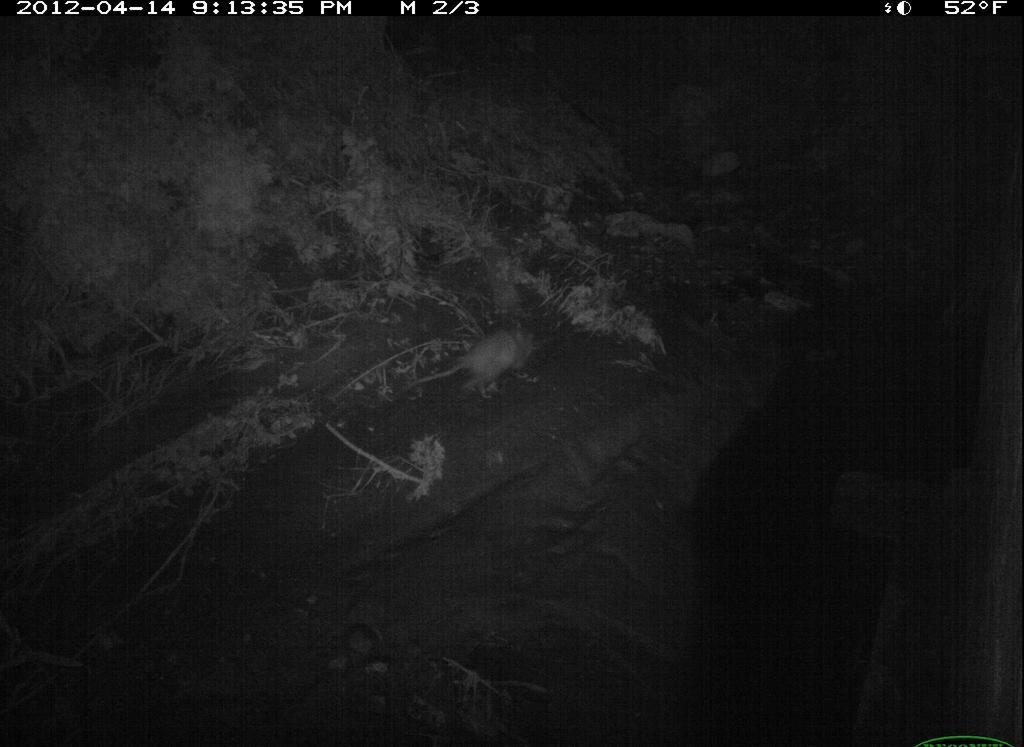opossum: (397, 315, 552, 409)
